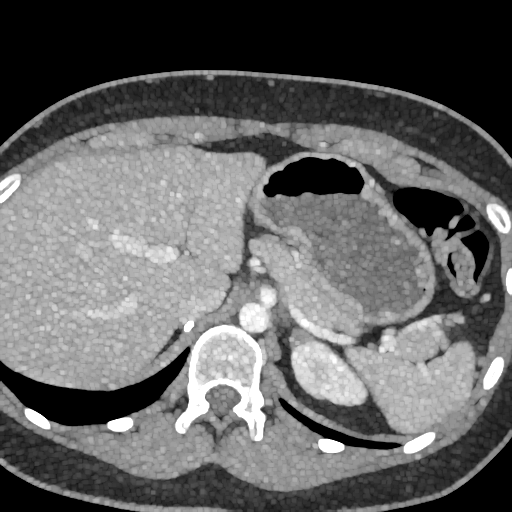Lesion: (283, 326, 318, 348)
